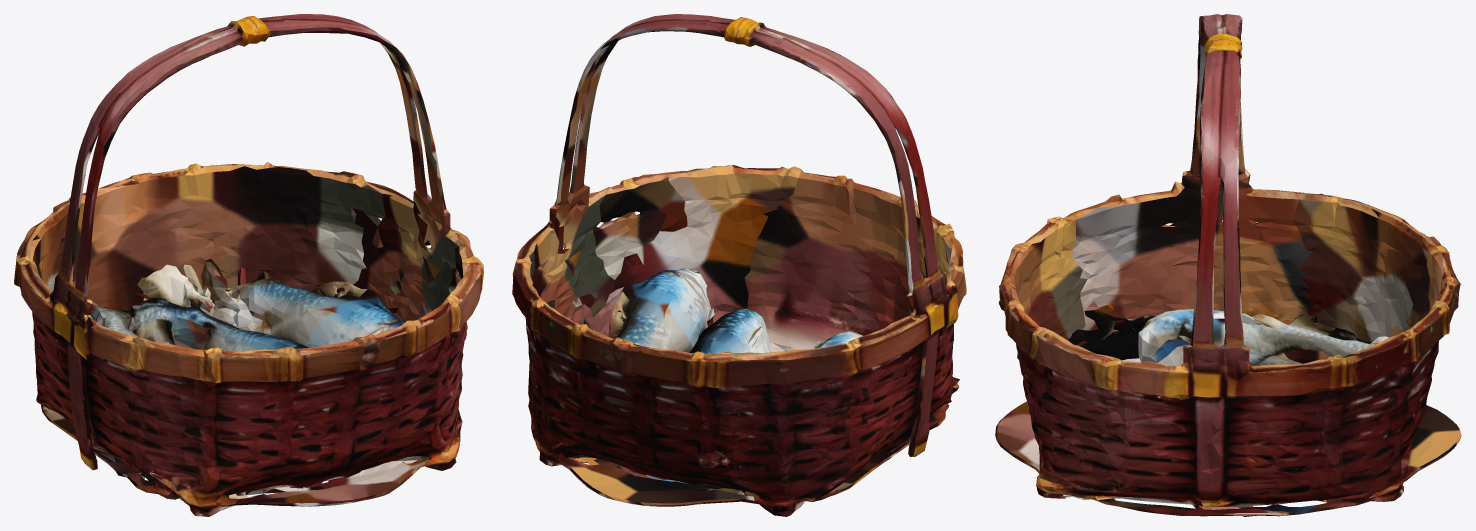
File: traveler_env_coast_cakon_fish_basket_00001_.glb
3 views of the same model, side by side, from view 1: azimuth 30°, elevation 25°; view 2: azimuth 150°, elevation 25°; view 3: azimuth 270°, elevation 25° (orthographic).
Visible parts, largest first — view 1: temp_mesh.ply; view 2: temp_mesh.ply; view 3: temp_mesh.ply.
Part boxes in pixels (<box>): temp_mesh.ply: <box>14,14,483,516</box>; temp_mesh.ply: <box>512,14,966,516</box>; temp_mesh.ply: <box>995,14,1461,516</box>.
Bounding box in the file's own units: 1.86 × 1.94 × 1.97.
1 material, 1 textured.
